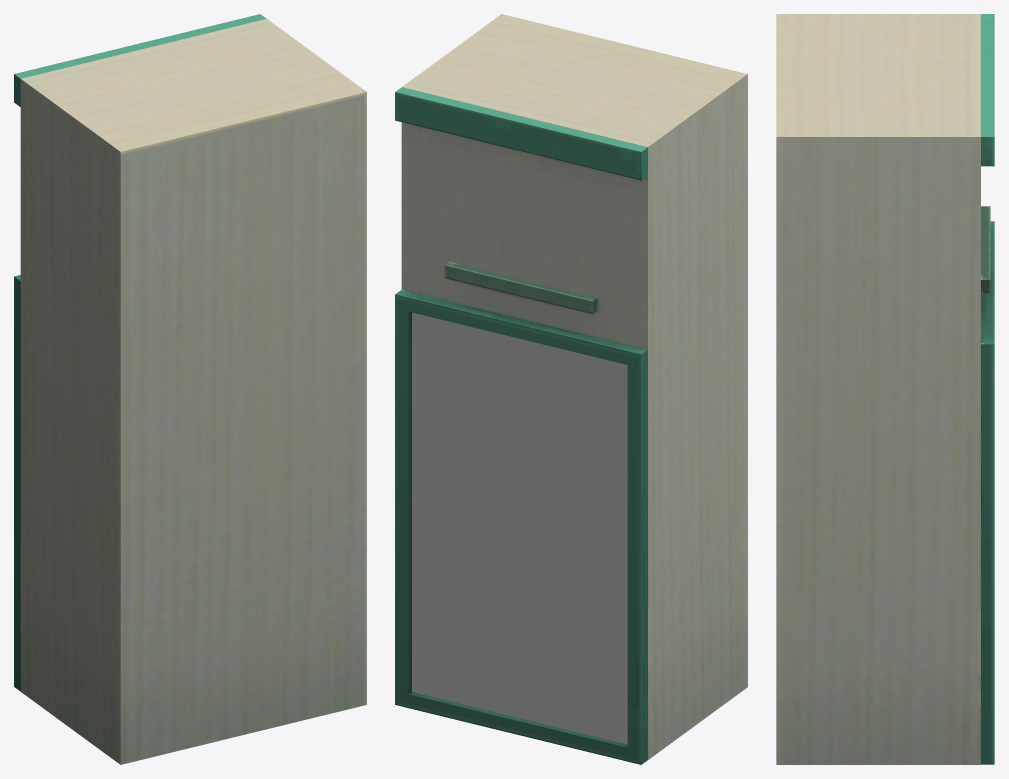
File: furni_0200518_02.FBX
3 views of the same model, side by side, from view 1: azimuth 30°, elevation 25°; view 2: azimuth 150°, elevation 25°; view 3: azimuth 270°, elevation 25° (orthographic). The views are drawn at different scales.
Parts seen in each view (by area): view 1: furni_0200518_02; view 2: furni_0200518_02; view 3: furni_0200518_02.
Part boxes in pixels (x1=…): furni_0200518_02: x1=14, y1=14, x2=366, y2=764; furni_0200518_02: x1=395, y1=14, x2=747, y2=764; furni_0200518_02: x1=776, y1=14, x2=994, y2=764.
Bounding box in the file's own units: 80.03 × 190 × 59.95.
